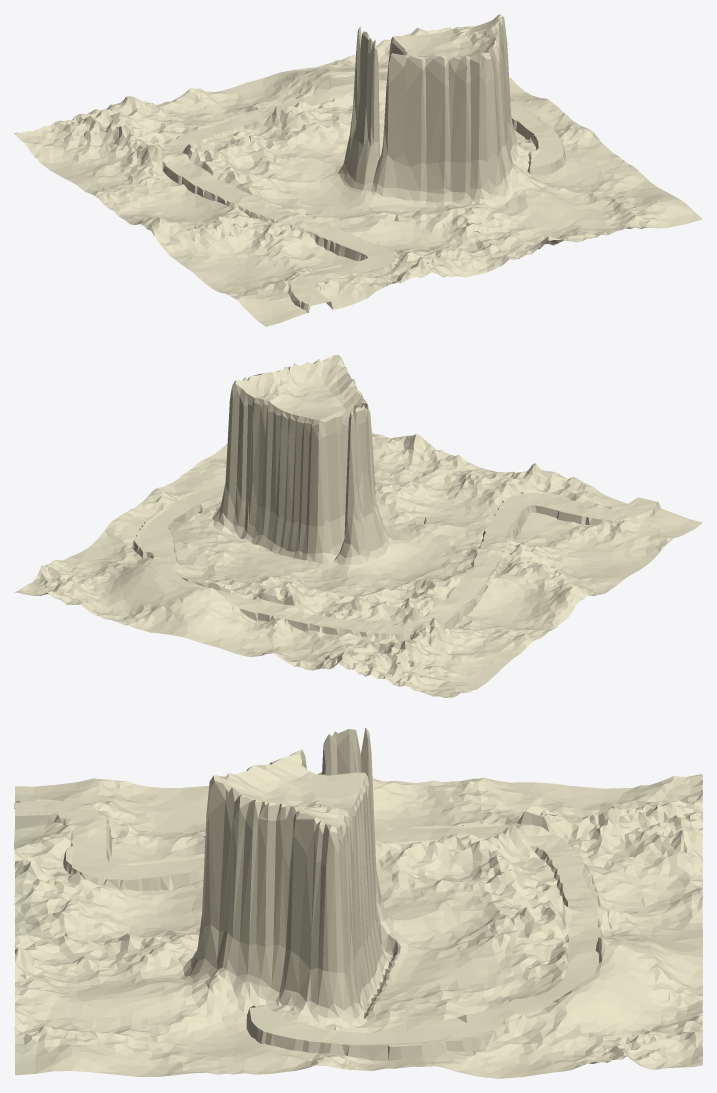
Rendered from finished_dessert11.fbx.
The picture shows the model from 3 angles, top to bottom: view 1: azimuth 30°, elevation 25°; view 2: azimuth 150°, elevation 25°; view 3: azimuth 270°, elevation 25°; orthographic projection. The views are drawn at different scales.
Visible parts, largest first — view 1: Landscape.002; view 2: Landscape.002; view 3: Landscape.002.
Boxes of the visible parts, <box> form: Landscape.002: <box>14,14,702,326</box>; Landscape.002: <box>14,355,702,698</box>; Landscape.002: <box>14,727,702,1078</box>.
Size of the model in its own units: 2001 by 695 by 2003.
